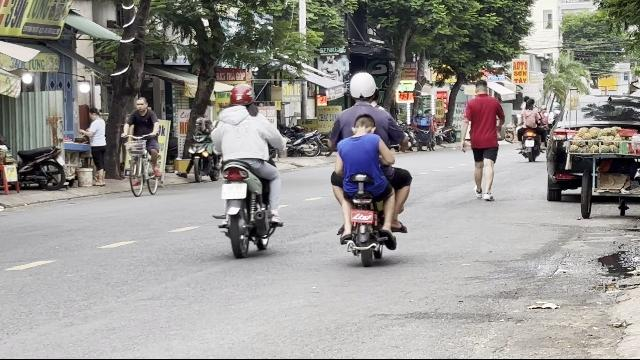helmet: (347, 72, 379, 104), (228, 83, 254, 109)
licenseplate: (222, 184, 246, 198)
motorcyclist: (327, 70, 413, 266), (208, 82, 286, 256)
nohelmet: (349, 114, 378, 142)
